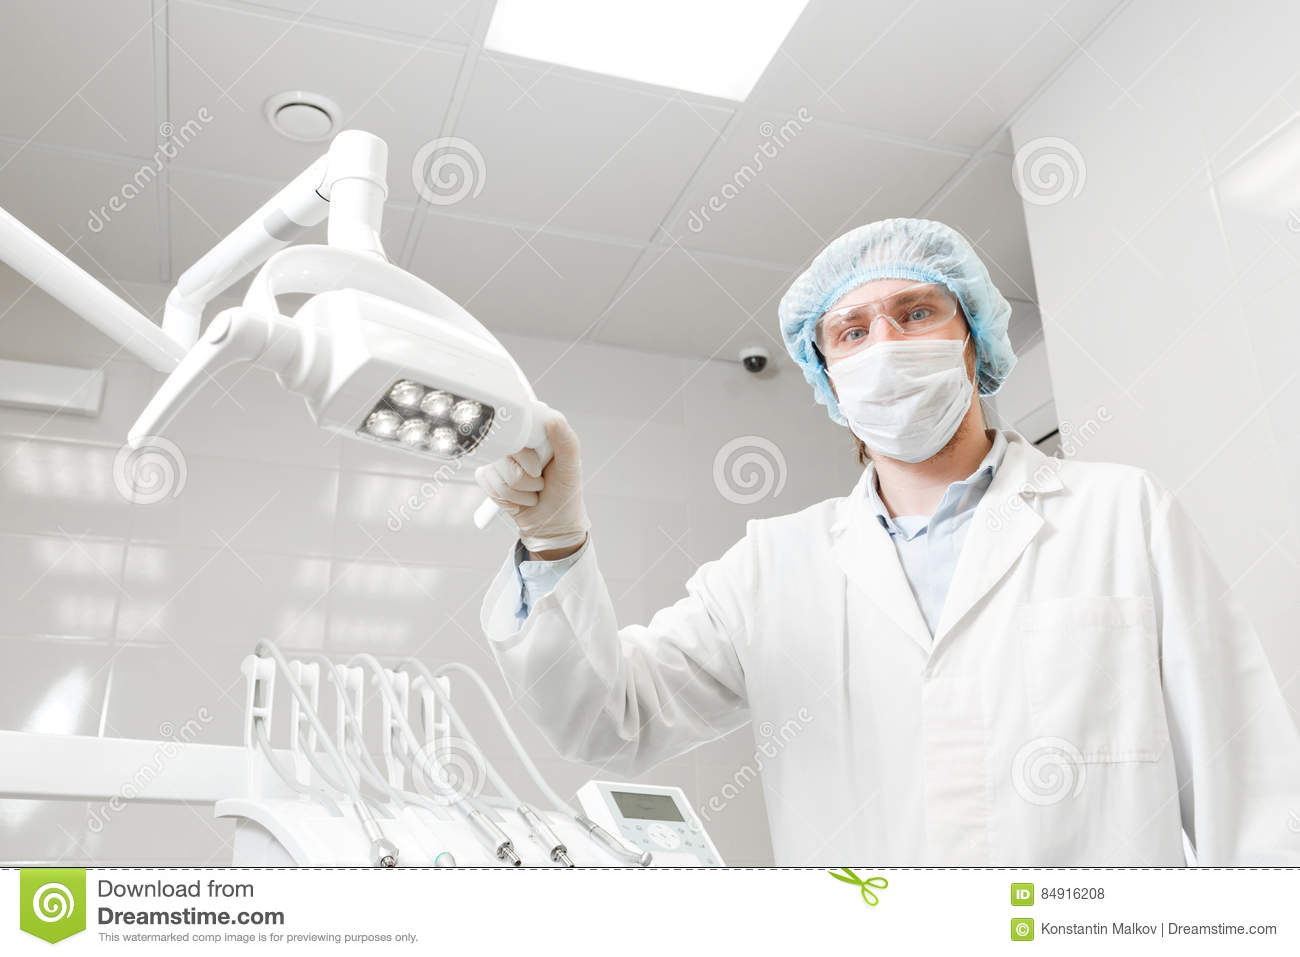mask: (822, 342, 998, 458)
